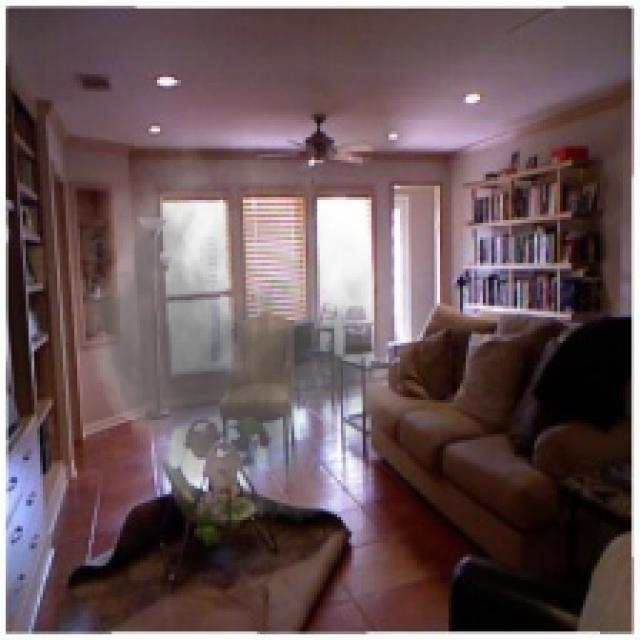Smoke: (66, 125, 412, 540)
